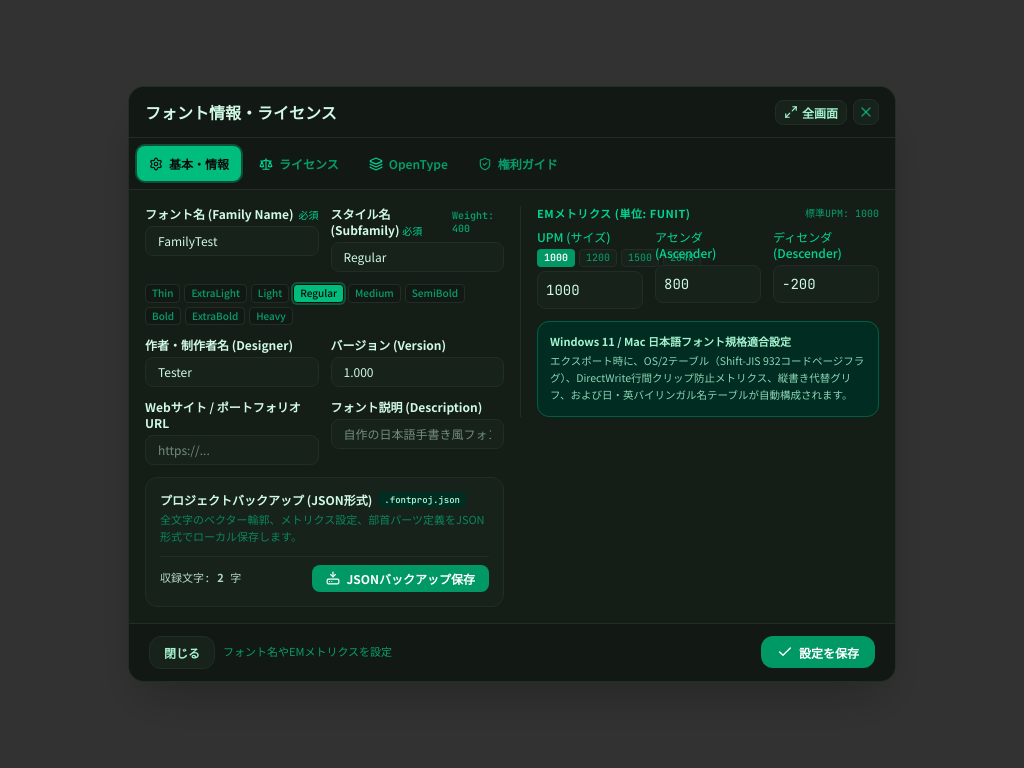
Test: Weight Interpolation & Family Settings Audit Fixes › FontInfoModal syncs usWeightClass when style preset chip is clicked or typed
Later steps or results of the test are not shown.
Click the button "SemiBold" at (435, 294), box left=405, top=284, right=465, bottom=303
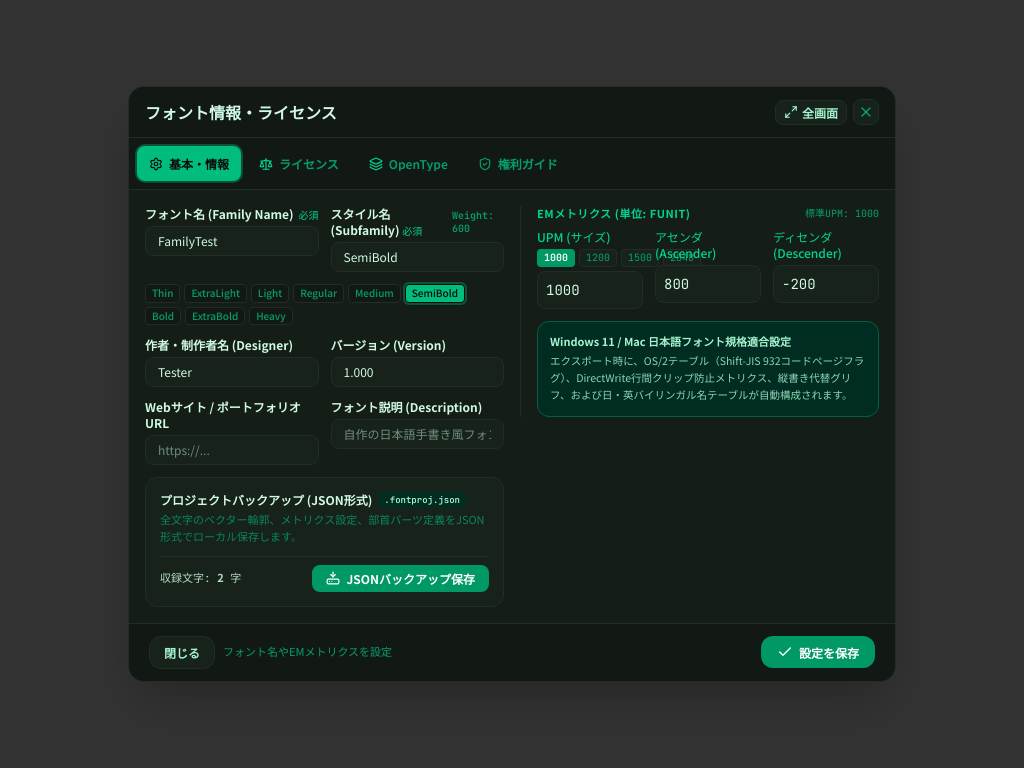
Result: the text "Weight: 600" is shown at left=452, top=209, right=494, bottom=235
